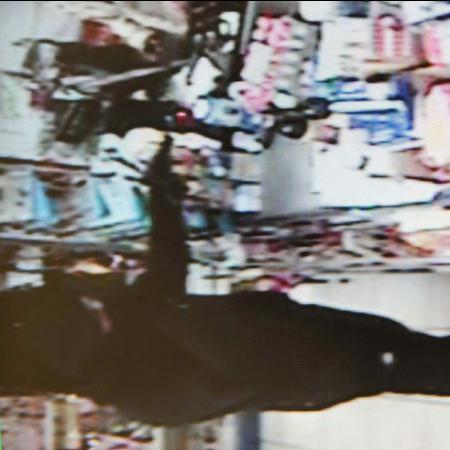Pistol: (138, 131, 200, 187)
